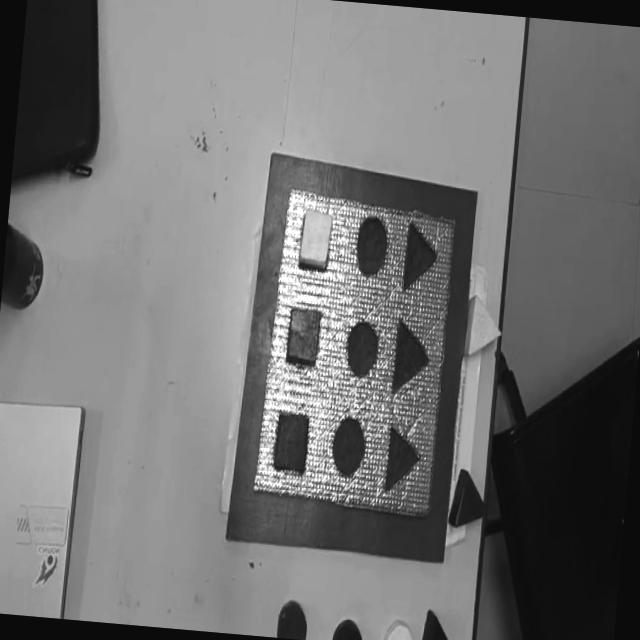bcircle: (381, 618, 415, 640)
bcube: (272, 412, 310, 474)
btriangle: (447, 468, 488, 530), (419, 609, 459, 640)
mtcircle: (329, 415, 367, 479), (344, 319, 381, 380), (353, 216, 389, 278)
mttriangle: (389, 318, 432, 397), (400, 220, 440, 295), (383, 426, 422, 496)
rcircle: (276, 600, 310, 640)
rcube: (285, 306, 322, 368)
wb: (251, 182, 460, 520)
ycube: (297, 208, 334, 273)
ytriangle: (462, 294, 505, 361)
